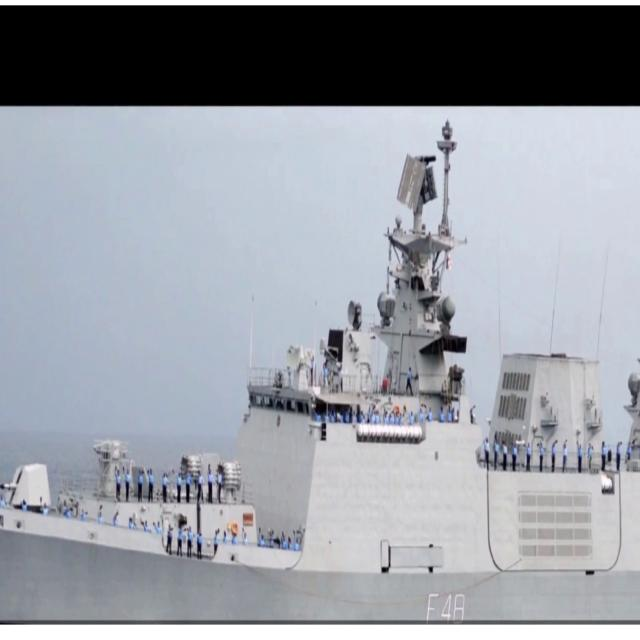OCR: (417, 585, 470, 622)
